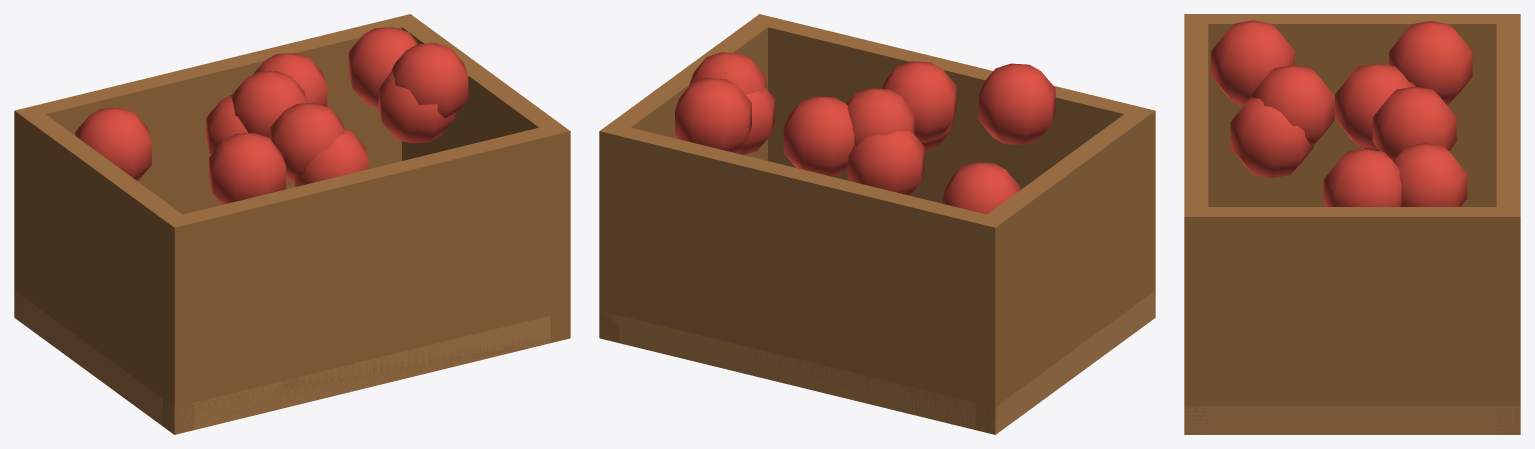
File: produce_crate.glb
The picture shows the model from 3 angles, left to right: view 1: azimuth 30°, elevation 25°; view 2: azimuth 150°, elevation 25°; view 3: azimuth 270°, elevation 25°; orthographic projection. The views are drawn at different scales.
Visible parts, largest first — view 1: Market_Produce_Crate; view 2: Market_Produce_Crate; view 3: Market_Produce_Crate.
Boxes of the visible parts, left/top/right/bottom form: Market_Produce_Crate: left=14, top=14, right=570, bottom=434; Market_Produce_Crate: left=599, top=14, right=1155, bottom=434; Market_Produce_Crate: left=1184, top=14, right=1520, bottom=434.
Size of the model in its own units: 0.6 by 0.3614 by 0.42.
